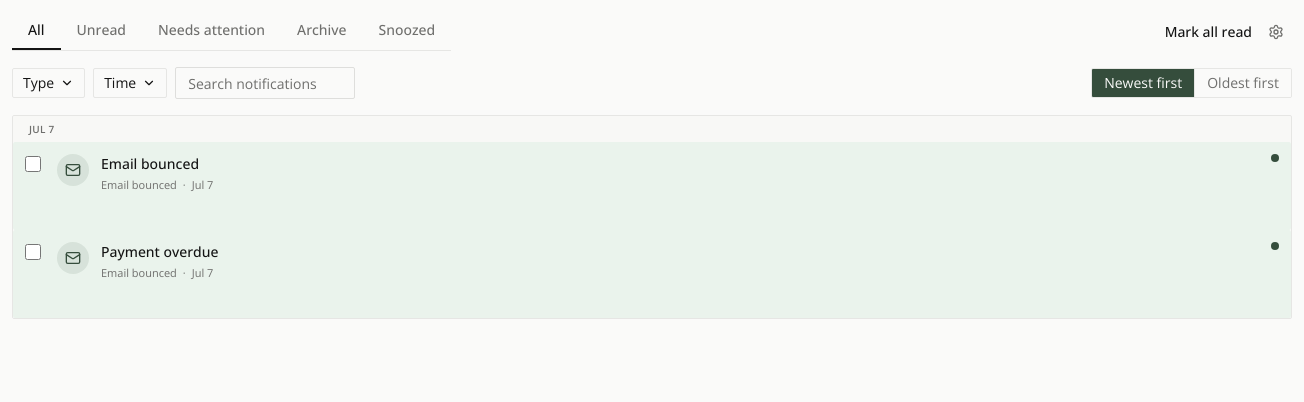
NotificationsPageClient — multi-select and bulk bar (E3) › 'Clear selection' button empties the selection and hides the bar
Click the 1st checkbox with test id "notification-select-checkbox" at (33, 164), box [25,156,41,172]
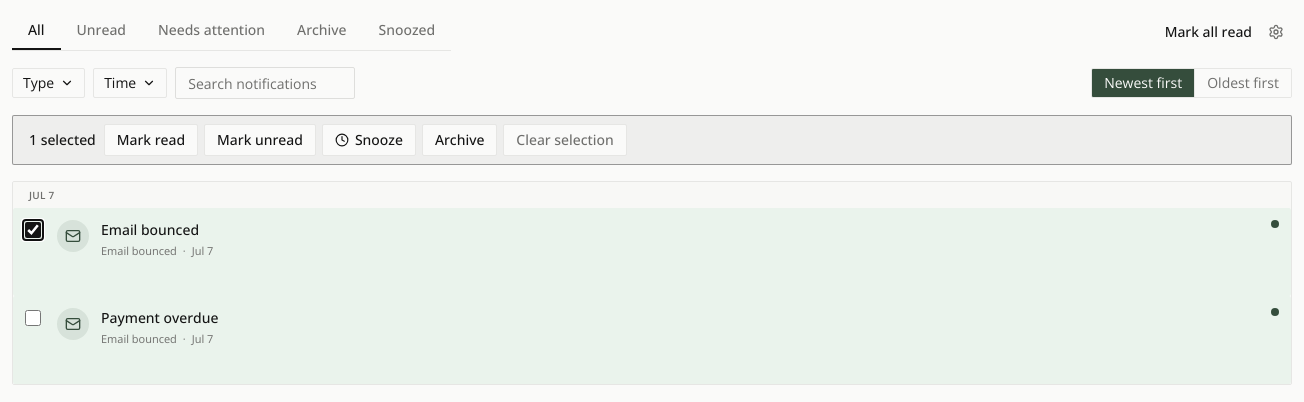
Expected: the element with test id "bulk-action-bar" is shown, [12,115,1292,165]
Click the button with test id "bulk-action-clear" at (565, 140), box [503,124,627,156]
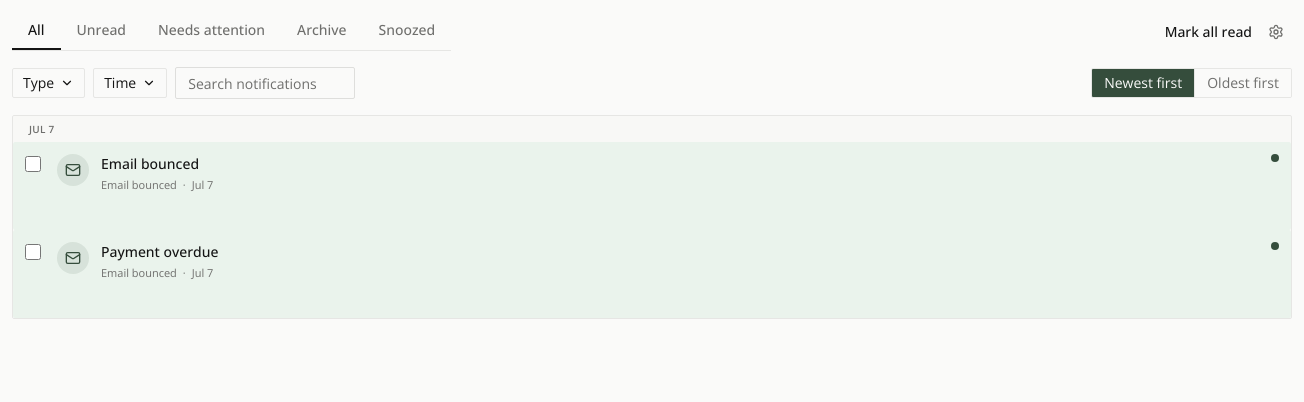
Expected: the element with test id "bulk-action-bar" is gone
